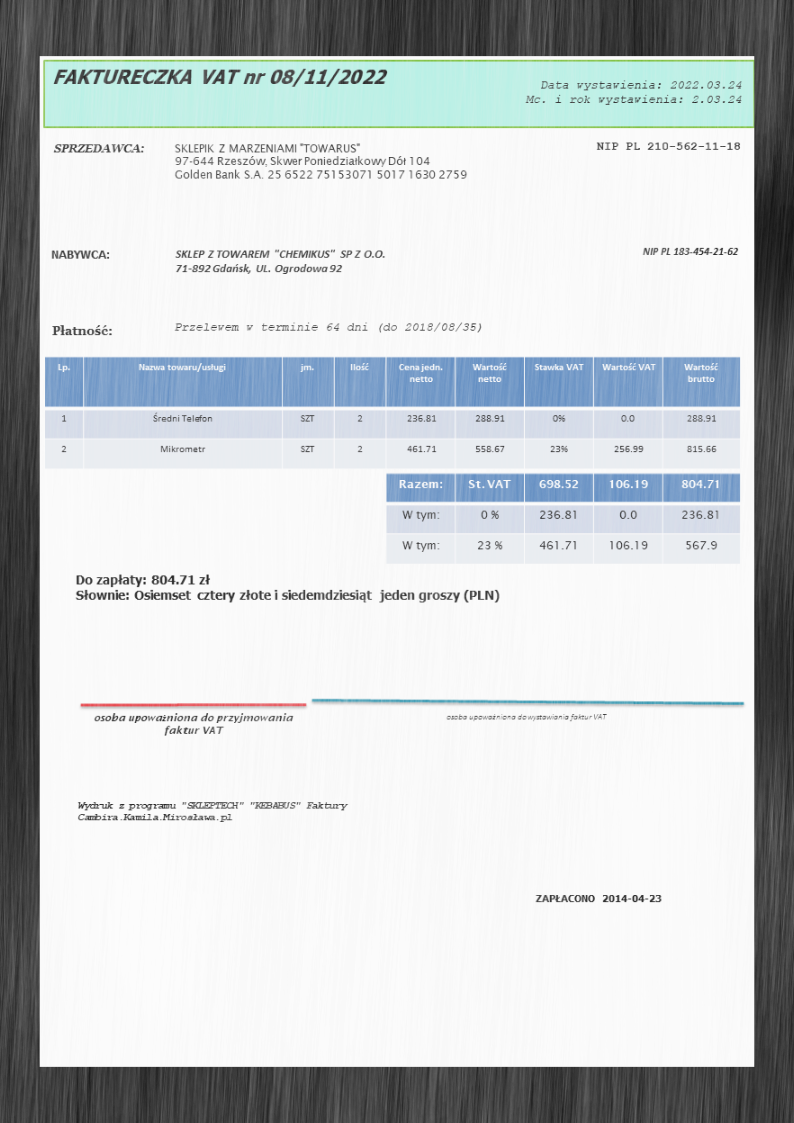Table: (43, 353, 741, 468), (384, 472, 742, 567)
TextBox: (72, 573, 502, 606), (172, 141, 469, 184), (50, 64, 389, 89), (75, 797, 348, 826), (523, 77, 744, 107), (173, 247, 384, 276), (91, 710, 295, 738), (172, 320, 482, 333), (443, 711, 610, 724), (593, 139, 742, 153), (533, 891, 664, 905), (51, 140, 145, 155), (639, 244, 739, 258), (51, 322, 113, 338), (48, 246, 111, 261)
